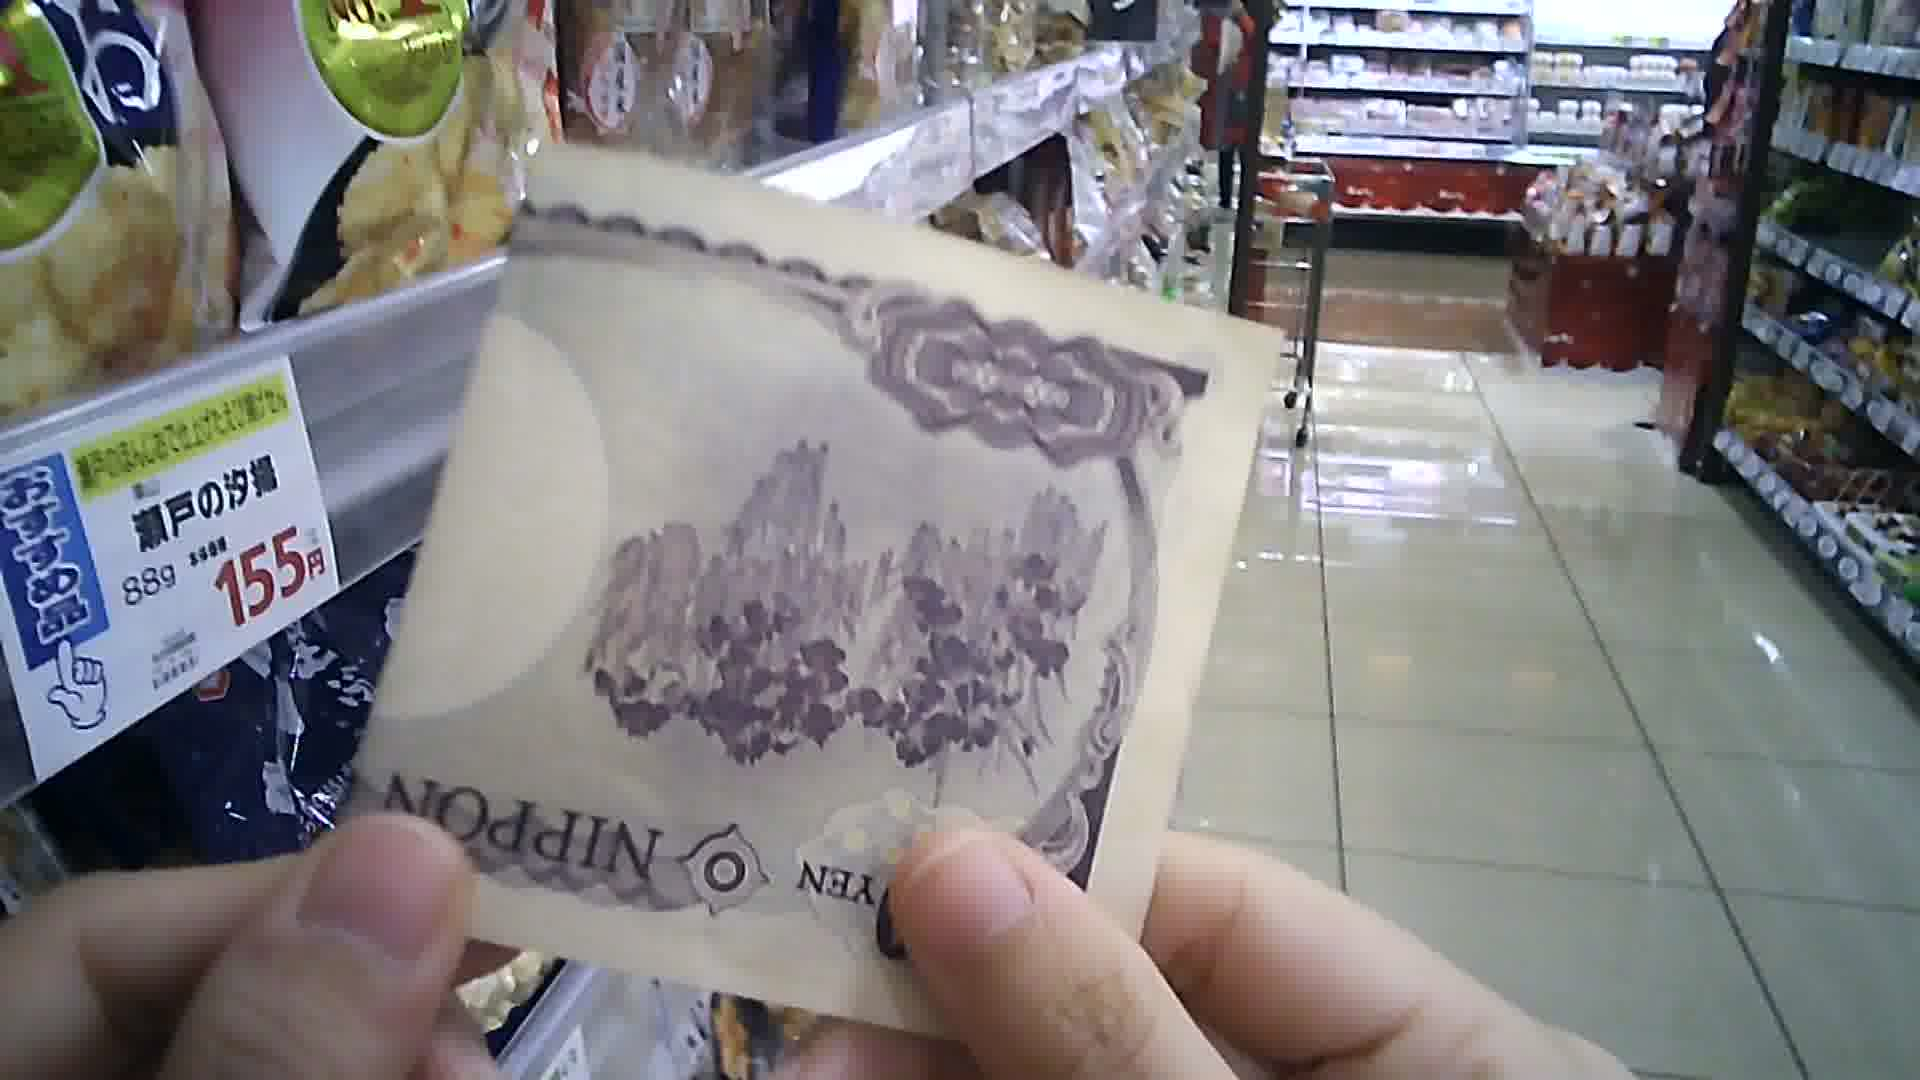5,000 Yen: (365, 123, 1284, 1054)
